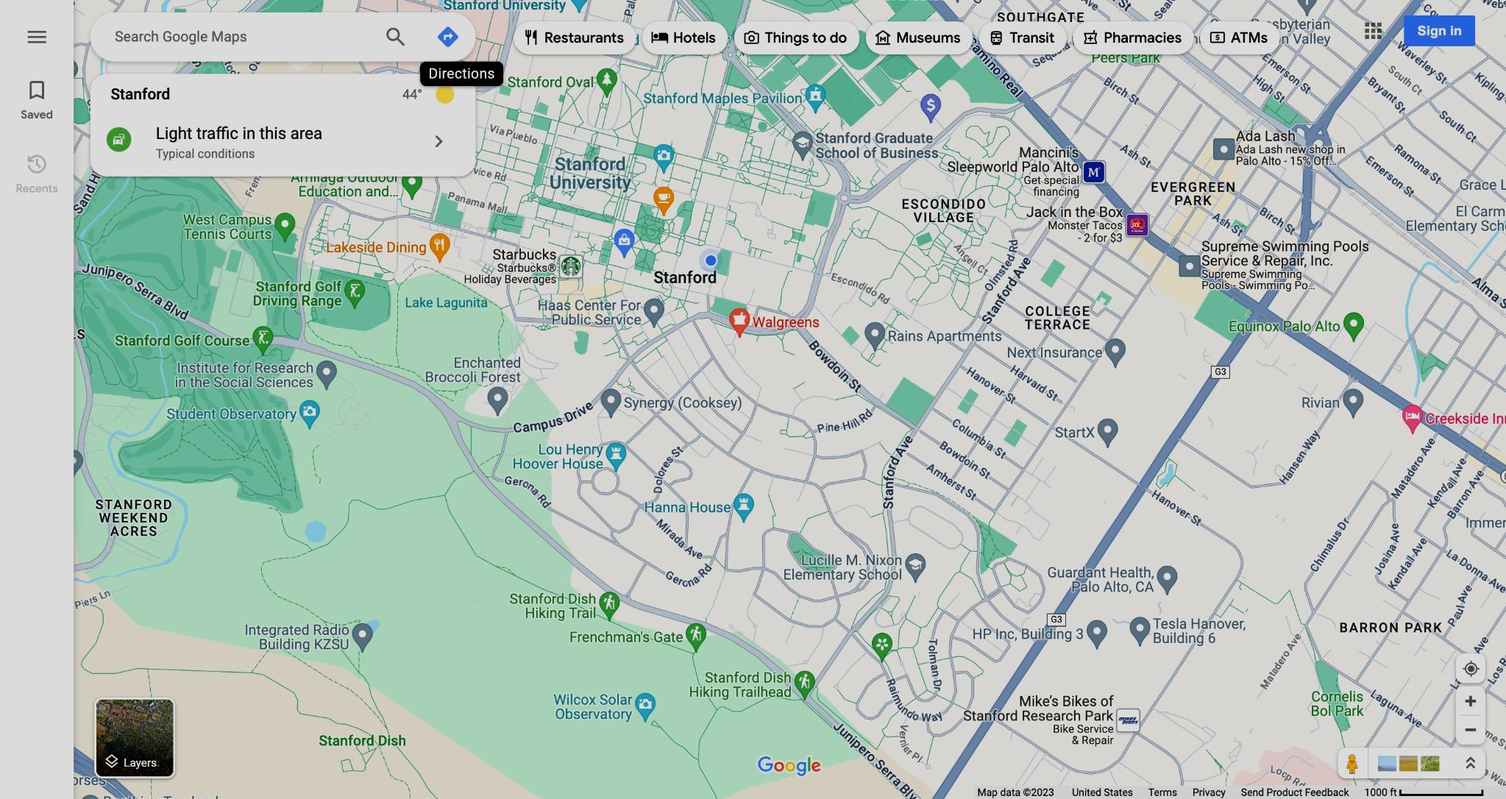webelement: (0, 0, 1505, 798), (0, 0, 72, 798), (498, 13, 1294, 61), (89, 114, 475, 167), (89, 12, 475, 60), (122, 663, 253, 794), (114, 22, 366, 47), (734, 13, 859, 61), (513, 13, 636, 61), (1073, 13, 1194, 61), (96, 699, 172, 775), (864, 13, 972, 61), (977, 785, 1363, 798), (979, 13, 1066, 61), (0, 68, 72, 126), (0, 143, 72, 200), (643, 13, 727, 61), (1201, 13, 1280, 61), (1370, 747, 1485, 777), (402, 73, 475, 114), (0, 15, 72, 52), (420, 12, 475, 60), (371, 12, 419, 60), (1404, 14, 1475, 45), (756, 752, 823, 778), (764, 27, 846, 47), (544, 27, 623, 47), (1104, 27, 1181, 47), (1364, 786, 1484, 798), (1241, 785, 1349, 798), (896, 27, 960, 47), (1358, 14, 1389, 45), (977, 786, 1055, 798), (1010, 27, 1055, 47), (1338, 747, 1368, 777), (1456, 714, 1485, 744), (1456, 653, 1485, 682), (1456, 686, 1485, 715), (673, 27, 715, 47), (1072, 785, 1132, 798), (1231, 27, 1268, 47), (432, 81, 457, 106), (124, 755, 156, 768), (1192, 785, 1224, 798), (1148, 785, 1177, 798), (521, 28, 540, 46), (1081, 28, 1100, 46), (1208, 28, 1227, 46), (650, 28, 668, 46), (742, 28, 760, 46), (873, 28, 891, 46), (987, 28, 1005, 46), (102, 752, 120, 770)
